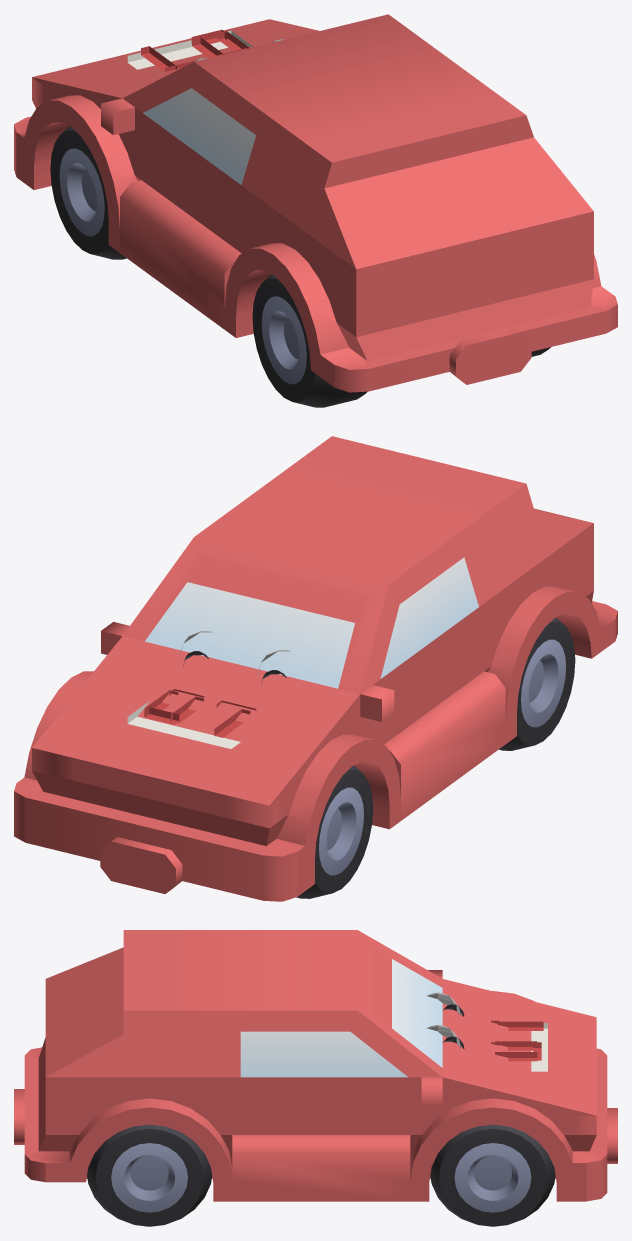
File: bolt.glb
3 renders of one model, top to bottom at view 1: azimuth 30°, elevation 25°; view 2: azimuth 150°, elevation 25°; view 3: azimuth 270°, elevation 25°, orthographic. The views are drawn at different scales.
Parts seen in each view (by area): view 1: body, wheel-back-left, wheel-front-left, num-plate; view 2: body, wheel-back-left, wheel-front-left, num-plate; view 3: body, wheel-back-right, wheel-front-right, num-plate, n7-d.
Boxes of the visible parts, left/top/right/bottom form: body: left=14, top=14, right=617, bottom=392; wheel-back-left: left=252, top=274, right=367, bottom=407; wheel-front-left: left=50, top=126, right=126, bottom=259; num-plate: left=127, top=30, right=253, bottom=69; body: left=14, top=436, right=617, bottom=901; wheel-back-left: left=499, top=618, right=575, bottom=750; wheel-front-left: left=296, top=765, right=373, bottom=898; num-plate: left=127, top=700, right=240, bottom=748; body: left=14, top=930, right=617, bottom=1201; wheel-back-right: left=87, top=1124, right=212, bottom=1226; wheel-front-right: left=430, top=1124, right=555, bottom=1226; num-plate: left=531, top=1023, right=547, bottom=1071; n7-d: left=497, top=1021, right=543, bottom=1030.
Bounding box in the file's own units: 1.39 × 1.18 × 3.05.
Materials: 6 (1 with a texture image).
